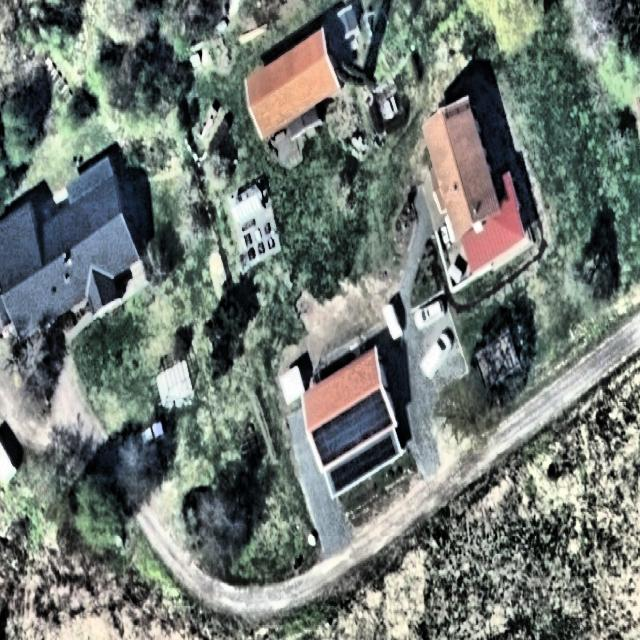roof_pv: (308, 385, 395, 467)
